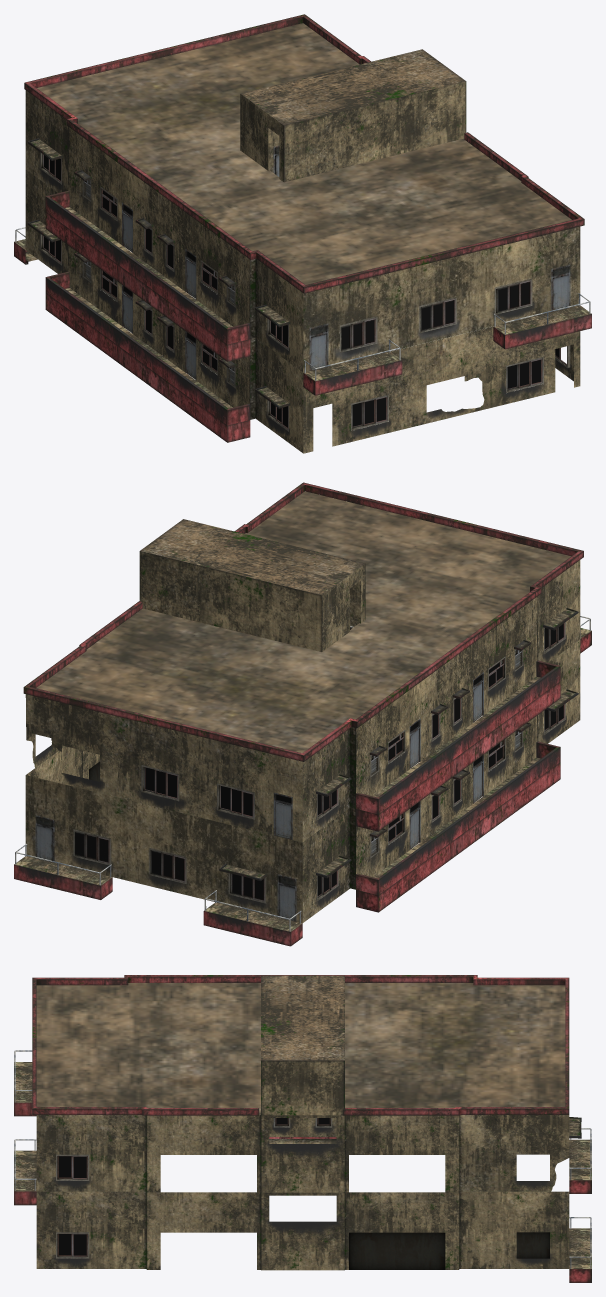
File: Exterior Strucure.FBX
3 renders of one model, top to bottom at view 1: azimuth 30°, elevation 25°; view 2: azimuth 150°, elevation 25°; view 3: azimuth 270°, elevation 25°, orthographic. The views are drawn at different scales.
Visible parts, largest first — view 1: ExteriorStructure; view 2: ExteriorStructure; view 3: ExteriorStructure.
Boxes of the visible parts, x1,y1,x2,y2 form: ExteriorStructure: [14, 14, 591, 453]; ExteriorStructure: [14, 482, 591, 946]; ExteriorStructure: [14, 975, 591, 1282].
Size of the model in its own units: 2041 by 1491 by 3450.
2 materials, 1 textured.
